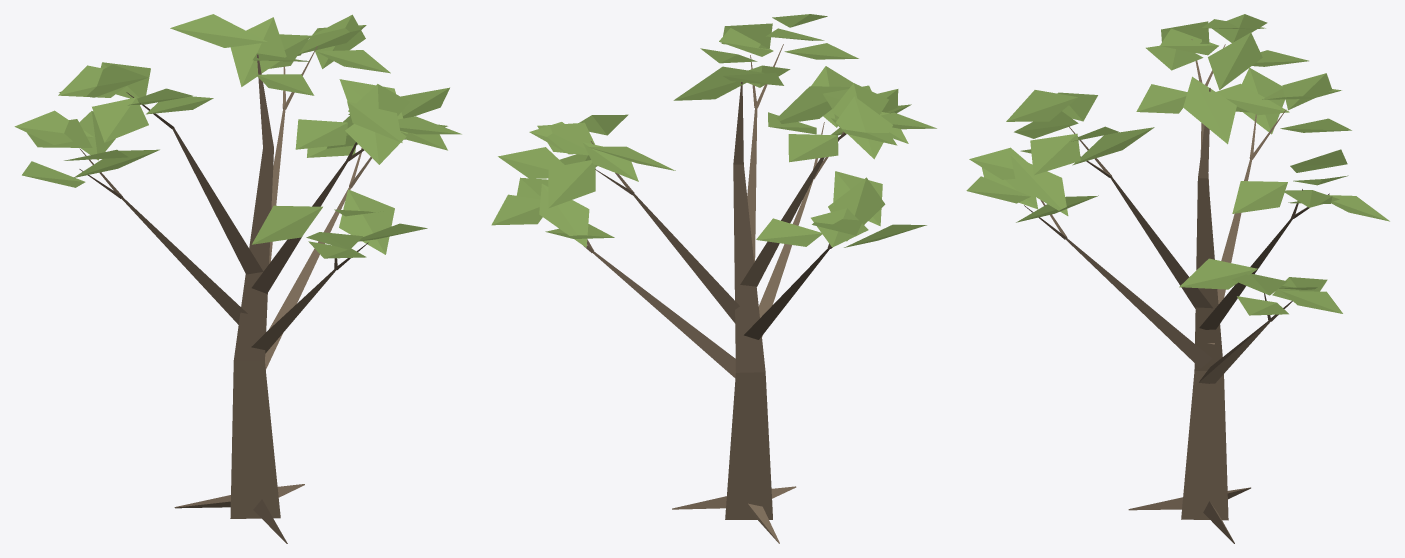
File: oak-lod2.glb
3 renders of one model, left to right at view 1: azimuth 30°, elevation 25°; view 2: azimuth 150°, elevation 25°; view 3: azimuth 270°, elevation 25°, orthographic. The views are drawn at different scales.
Visible parts, largest first — view 1: tree_oak_LOD2; view 2: tree_oak_LOD2; view 3: tree_oak_LOD2.
Part boxes in pixels (x1,y1,x2,y2): tree_oak_LOD2: [14, 14, 461, 543]; tree_oak_LOD2: [491, 14, 936, 543]; tree_oak_LOD2: [966, 14, 1389, 543].
Bounding box in the file's own units: 11 × 11.51 × 9.76.
